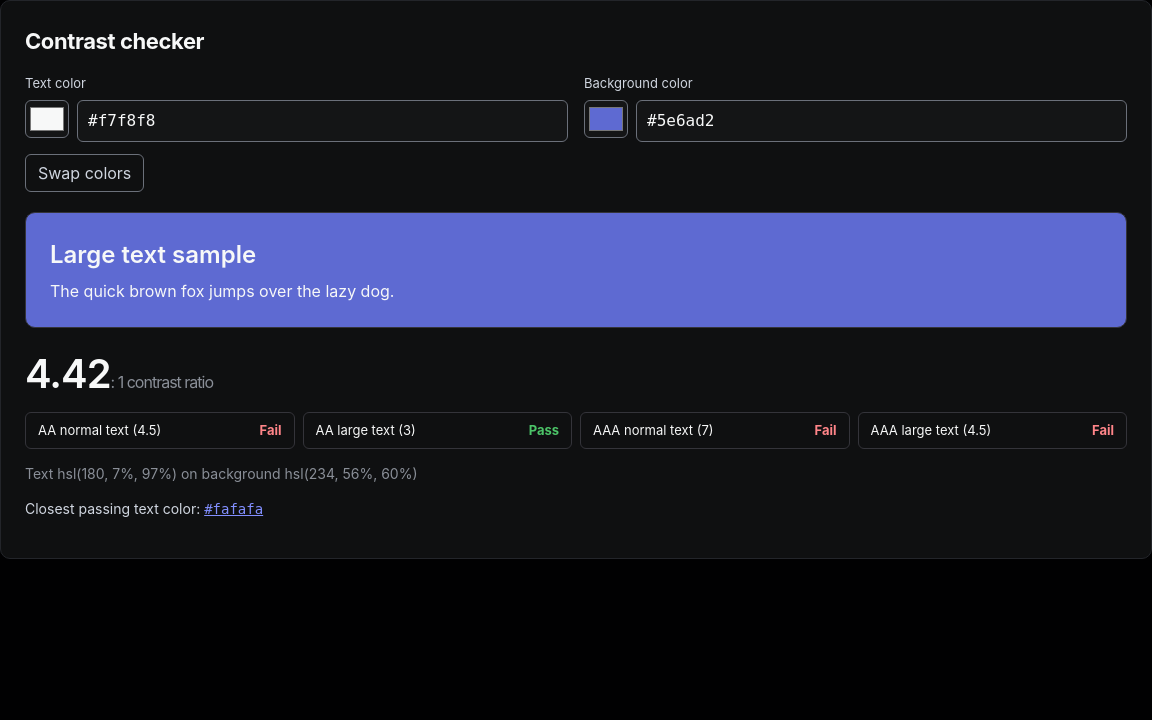
Test case: ContrastChecker › swaps colors
Step 1. Click the button "Swap colors" → coordinates (85, 172), box [25,154,144,192]
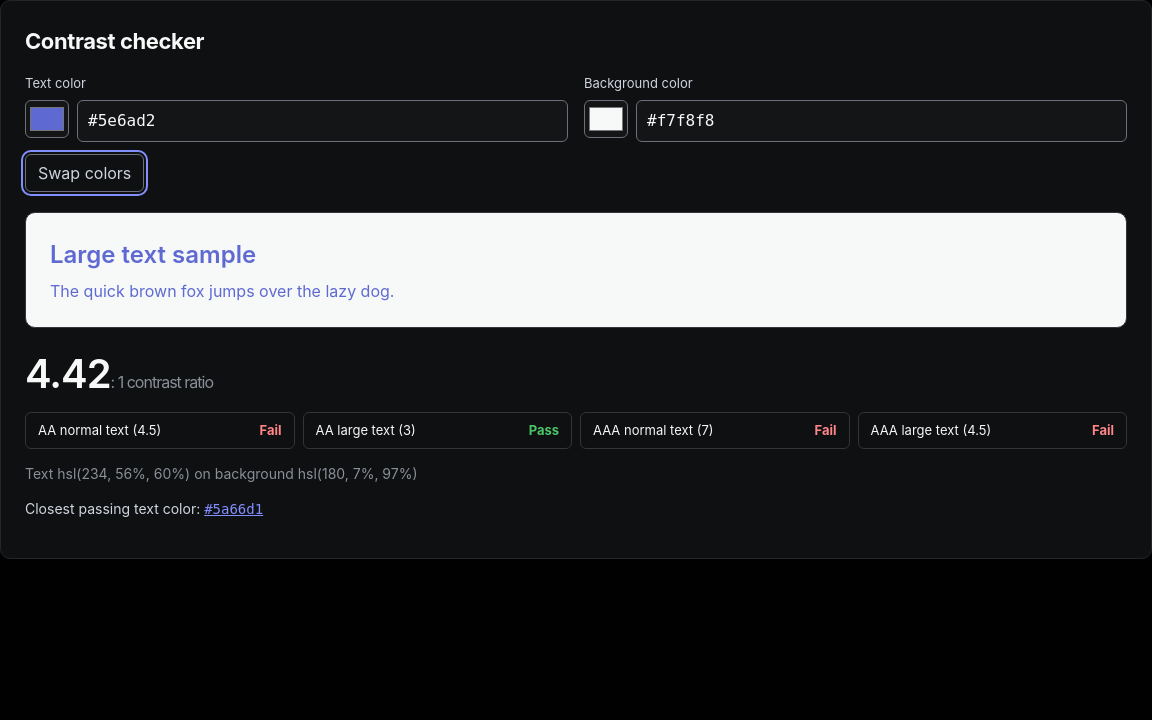
Expected: the field labelled "Text color" holds "#5e6ad2", [77,100,568,142]
